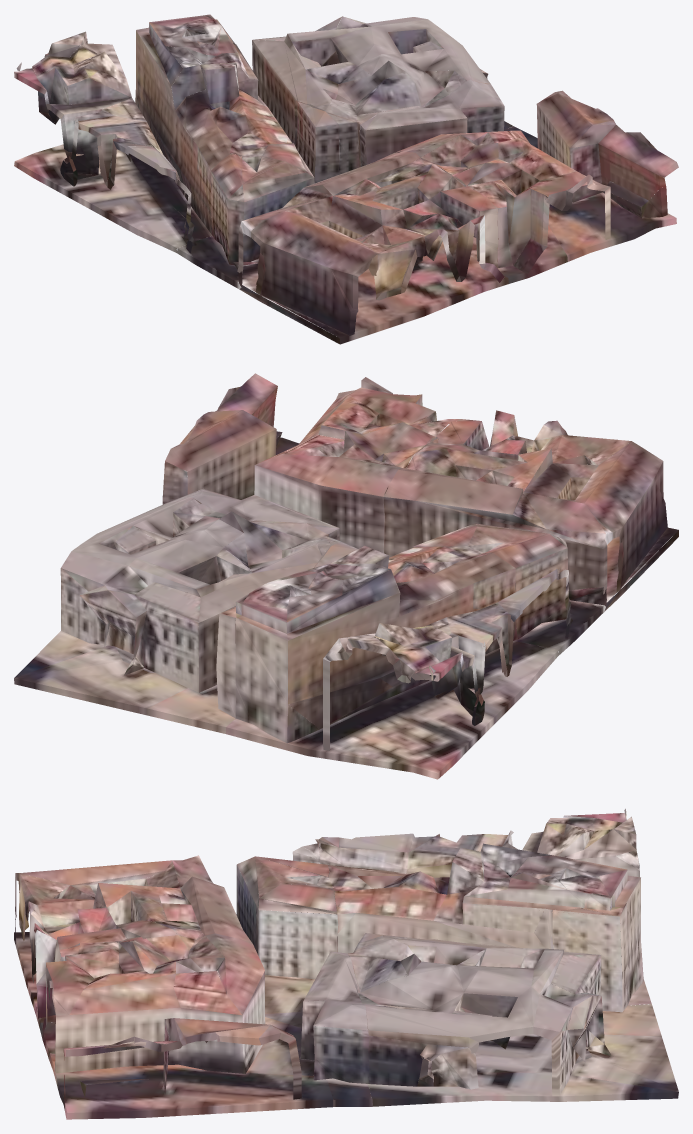
3 renders of one model, top to bottom at view 1: azimuth 30°, elevation 25°; view 2: azimuth 150°, elevation 25°; view 3: azimuth 270°, elevation 25°, orthographic. The views are drawn at different scales.
Visible parts, largest first — view 1: Mesh_0; view 2: Mesh_0; view 3: Mesh_0.
Boxes of the visible parts, x1,y1,x2,y2 form: Mesh_0: [14, 14, 678, 344]; Mesh_0: [14, 373, 678, 779]; Mesh_0: [14, 808, 678, 1119].
Size of the model in its own units: 134 by 37.46 by 165.
Materials: 2 (2 with a texture image).
